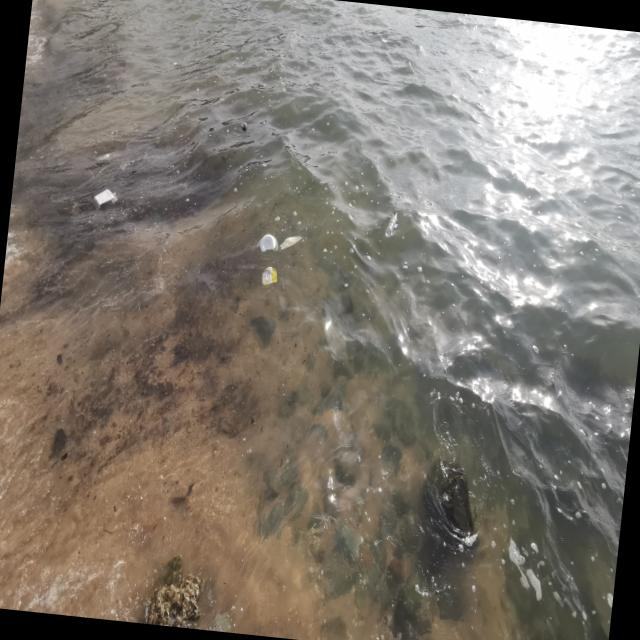foam: (93, 188, 119, 214), (257, 234, 281, 255)
plastic bottle: (385, 212, 399, 239)
